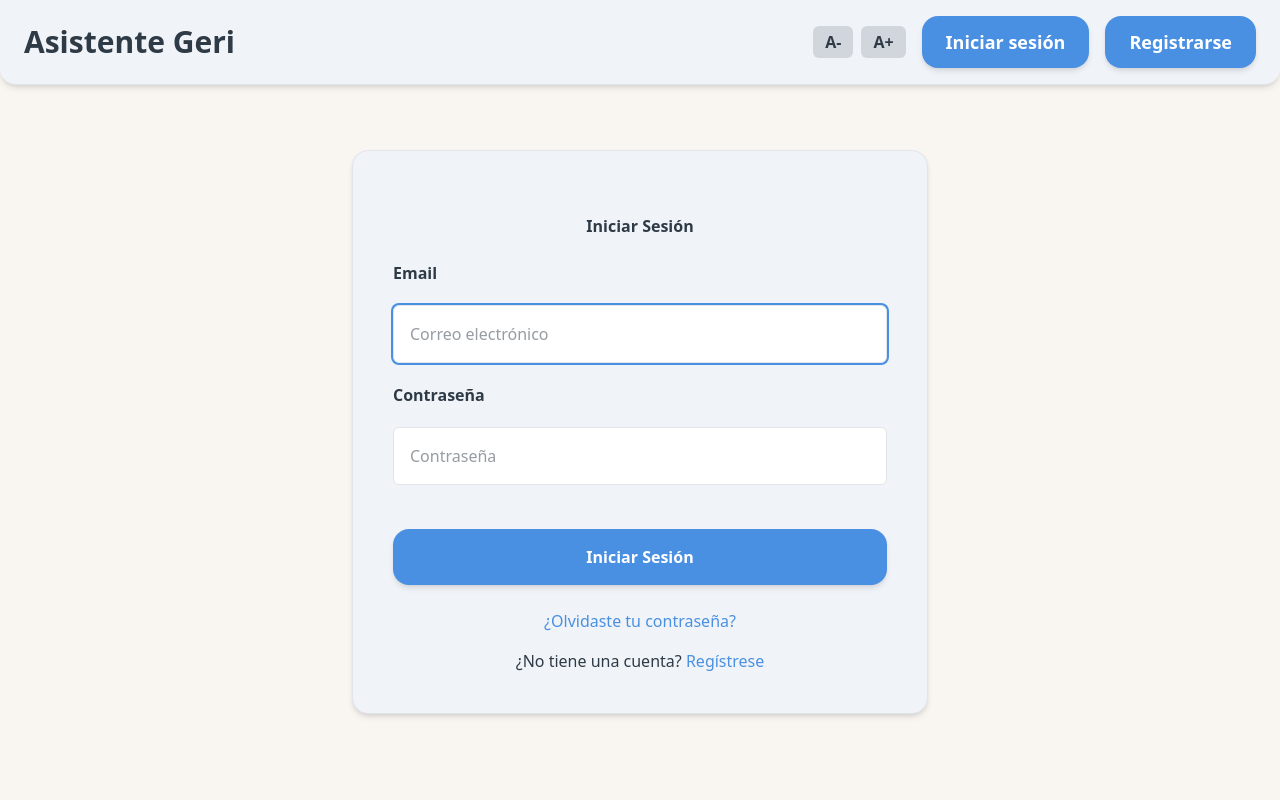
Scenario: LoginPage › muestra errores de validación si los campos están vacíos
Step 1. Click the button "Iniciar Sesión" → coordinates (640, 557), box x1=393 y1=529 x2=887 y2=585
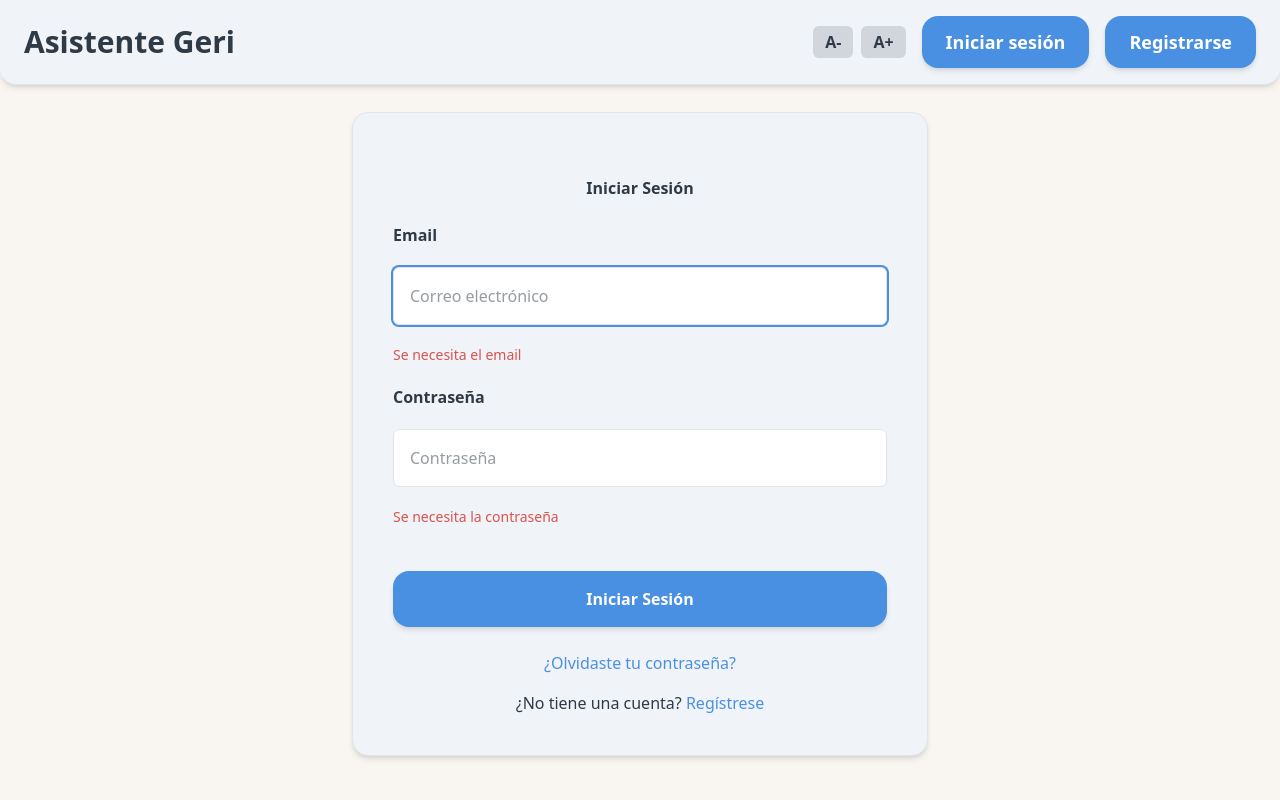
Expected: the text "Se necesita el email" is shown, x1=393 y1=345 x2=522 y2=364
Expected: the text "Se necesita la contraseña" is shown, x1=393 y1=507 x2=559 y2=526
